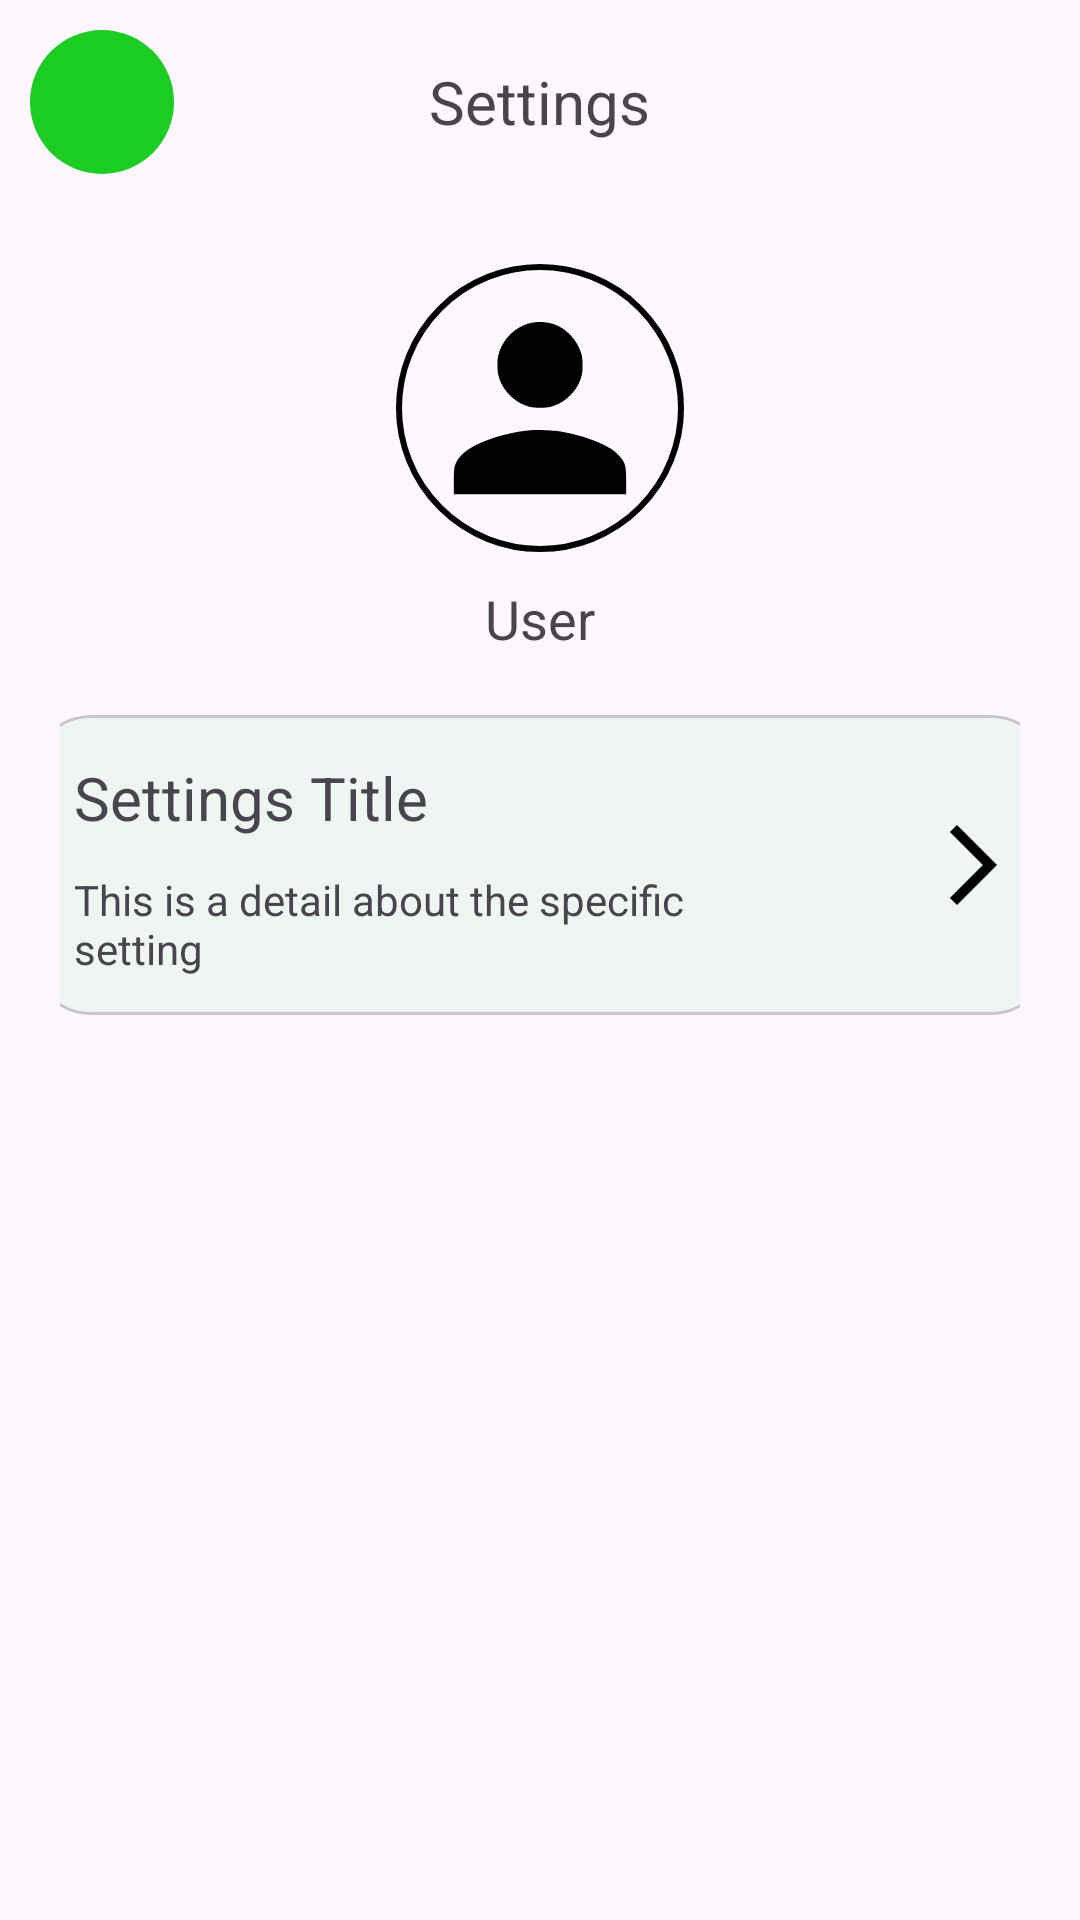

Where to tap for icons on this 1080px x 1920px app screen, as [x,y]:
arrow forward: [973,865]
